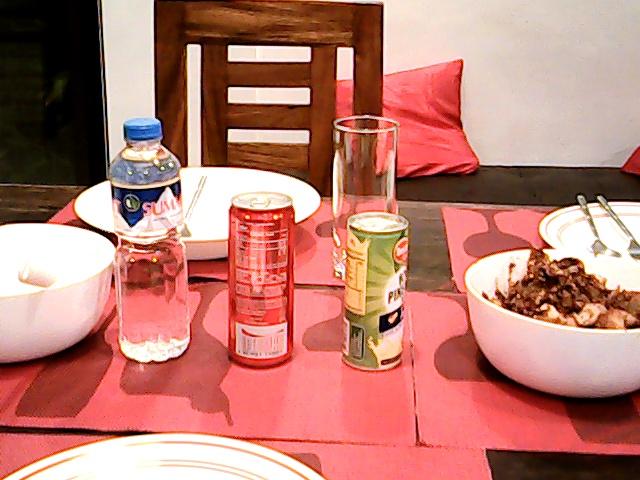Cola: (223, 188, 302, 365)
Pine Juice: (336, 206, 412, 370)
Summit Water: (103, 111, 194, 357)
